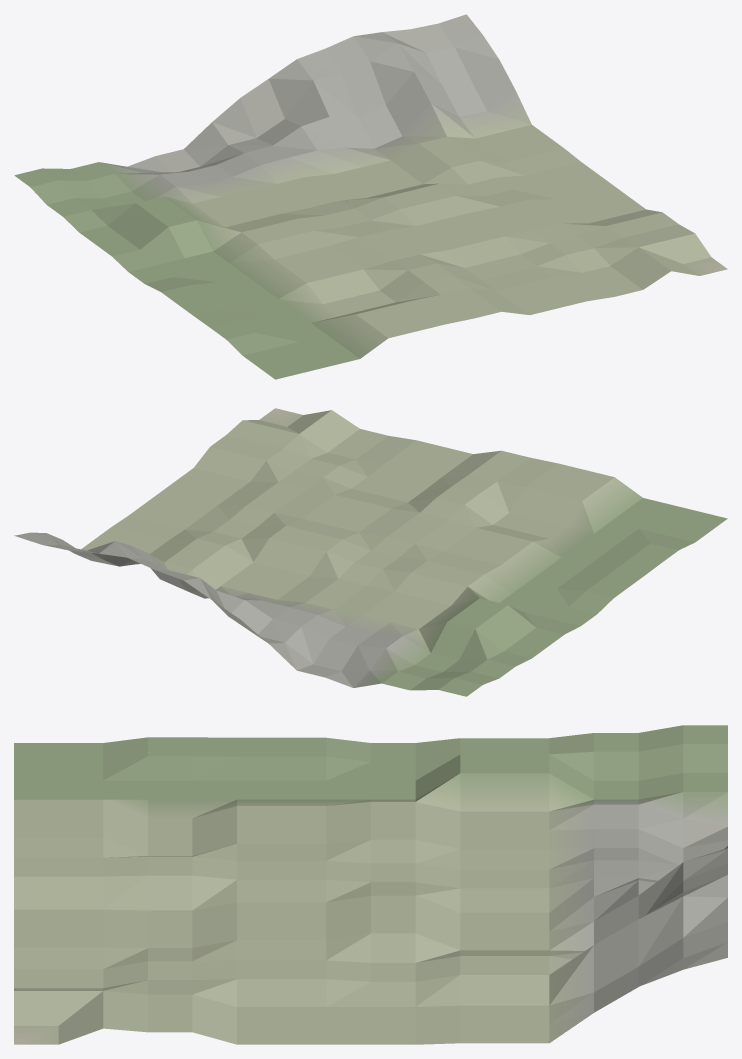
The picture shows the model from 3 angles, top to bottom: view 1: azimuth 30°, elevation 25°; view 2: azimuth 150°, elevation 25°; view 3: azimuth 270°, elevation 25°; orthographic projection. The views are drawn at different scales.
Bounding box in the file's own units: 32 × 5.22 × 32.
